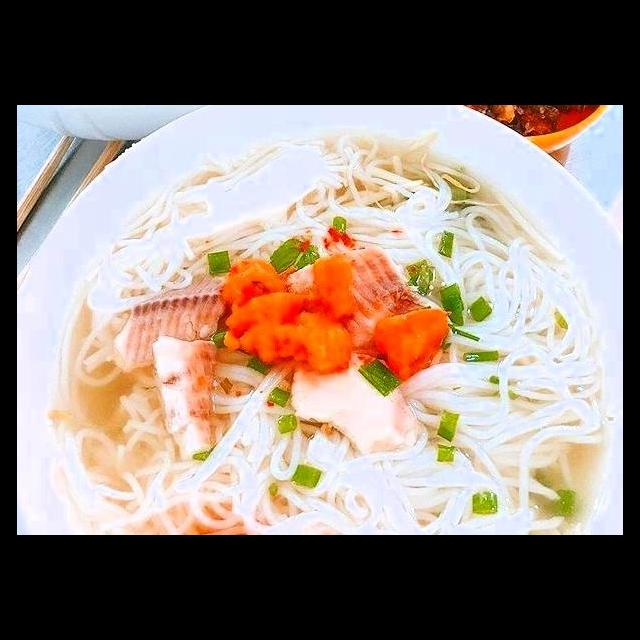bun: (37, 421, 607, 535), (444, 163, 613, 535), (135, 154, 593, 287)
bun ca: (36, 134, 606, 532)
ca: (266, 236, 449, 358), (108, 267, 237, 379), (146, 326, 224, 466)
tom: (212, 288, 357, 378), (372, 302, 455, 384), (221, 258, 298, 315)
